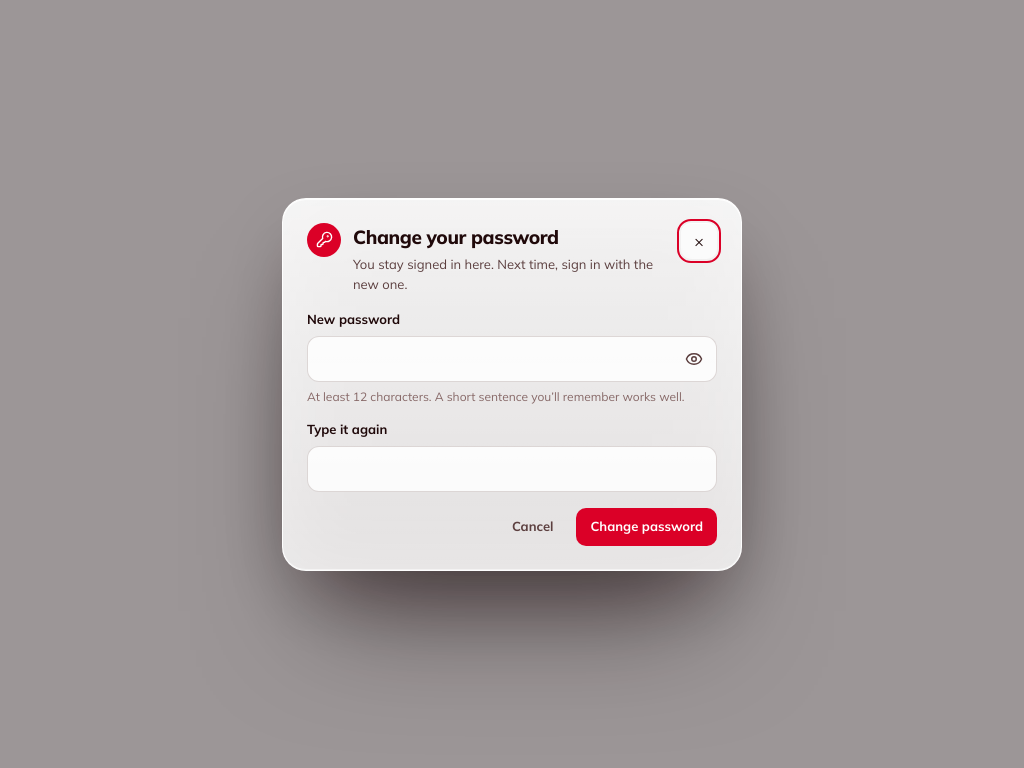
Scenario: ChangePasswordDialog › says plainly when Supabase refuses
Type "correct horse battery" into the password field labelled "New password" at (512, 359), box [307, 336, 717, 382]
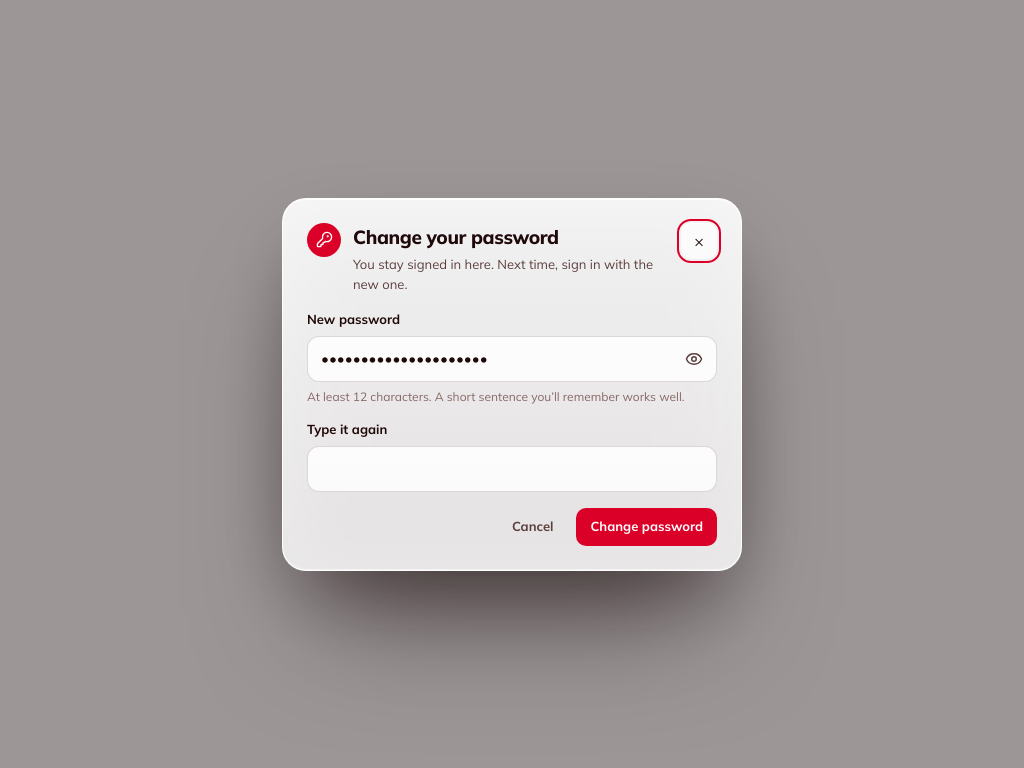
Type "correct horse battery" into the password field labelled "Type it again" at (512, 469), box [307, 446, 717, 492]
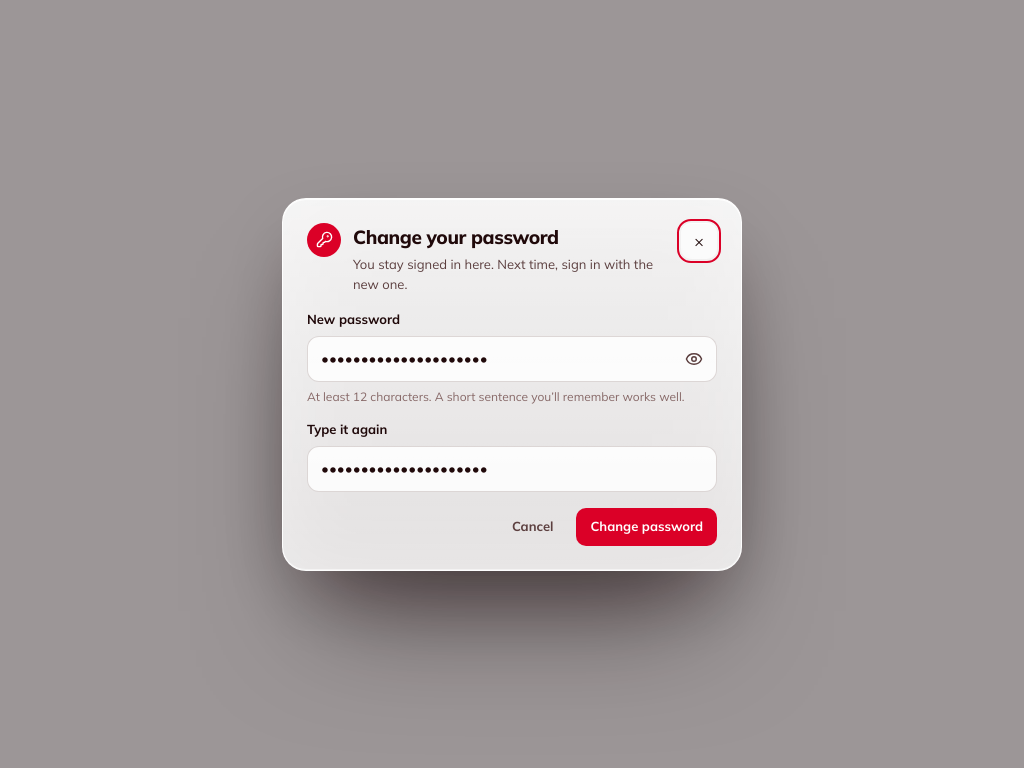
Click the button "Change password" at (647, 527), box [576, 508, 717, 546]
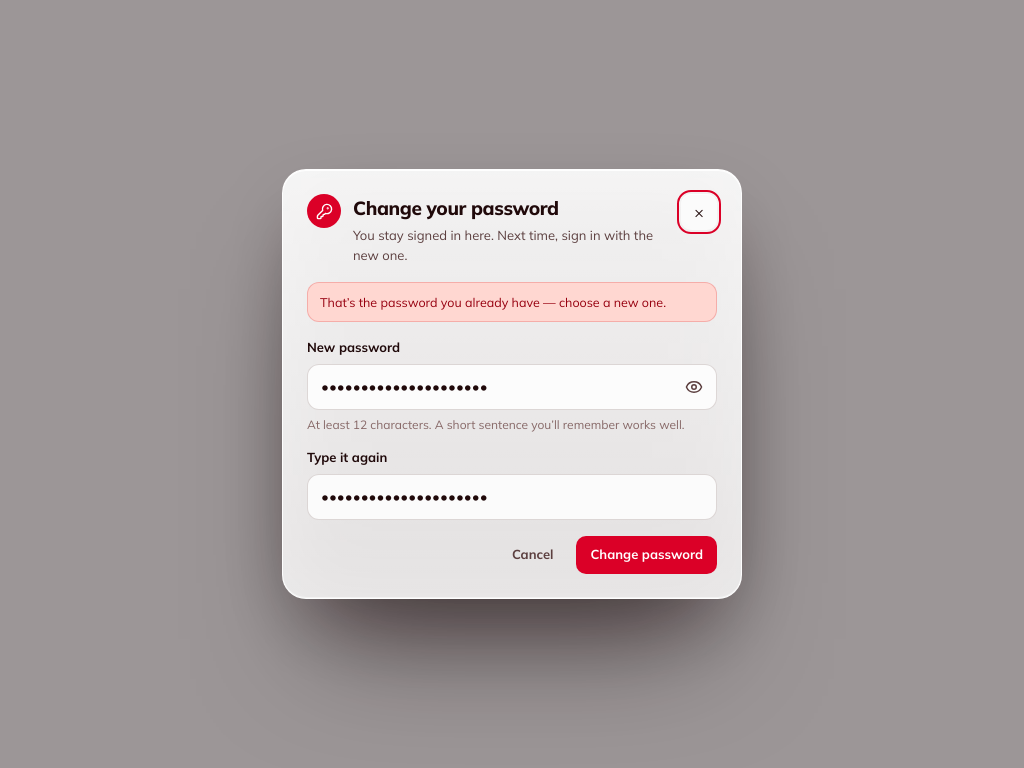
Check: the text "That’s the password you already have — choose a new one." is shown, box [307, 282, 717, 322]
